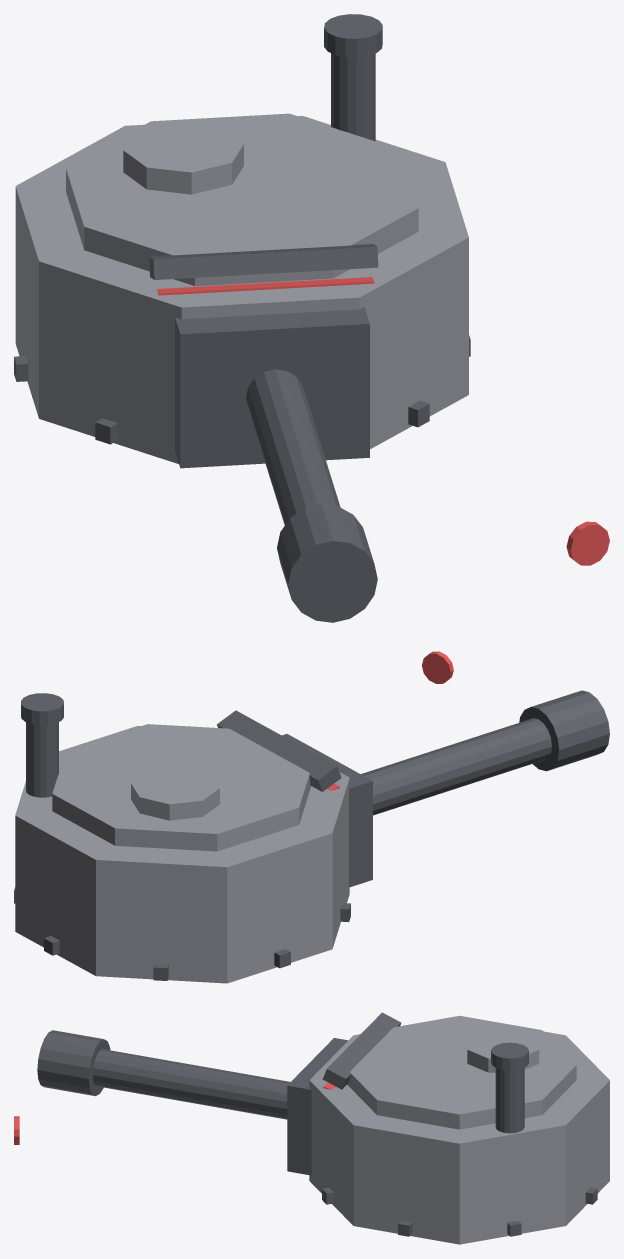
Rendered from turret-gun.glb.
3 renders of one model, top to bottom at view 1: azimuth 30°, elevation 25°; view 2: azimuth 150°, elevation 25°; view 3: azimuth 270°, elevation 25°, orthographic. The views are drawn at different scales.
Visible parts, largest first — view 1: TurretGun, TurretBore; view 2: TurretGun, TurretBore; view 3: TurretGun.
Boxes of the visible parts, box(x1,y1,x2,y2) form: TurretGun: box(14, 14, 470, 622); TurretBore: box(566, 521, 609, 565); TurretGun: box(14, 690, 609, 983); TurretBore: box(422, 651, 453, 683); TurretGun: box(37, 1012, 609, 1244).
Size of the model in its own units: 3.12 by 1.76 by 5.36.
